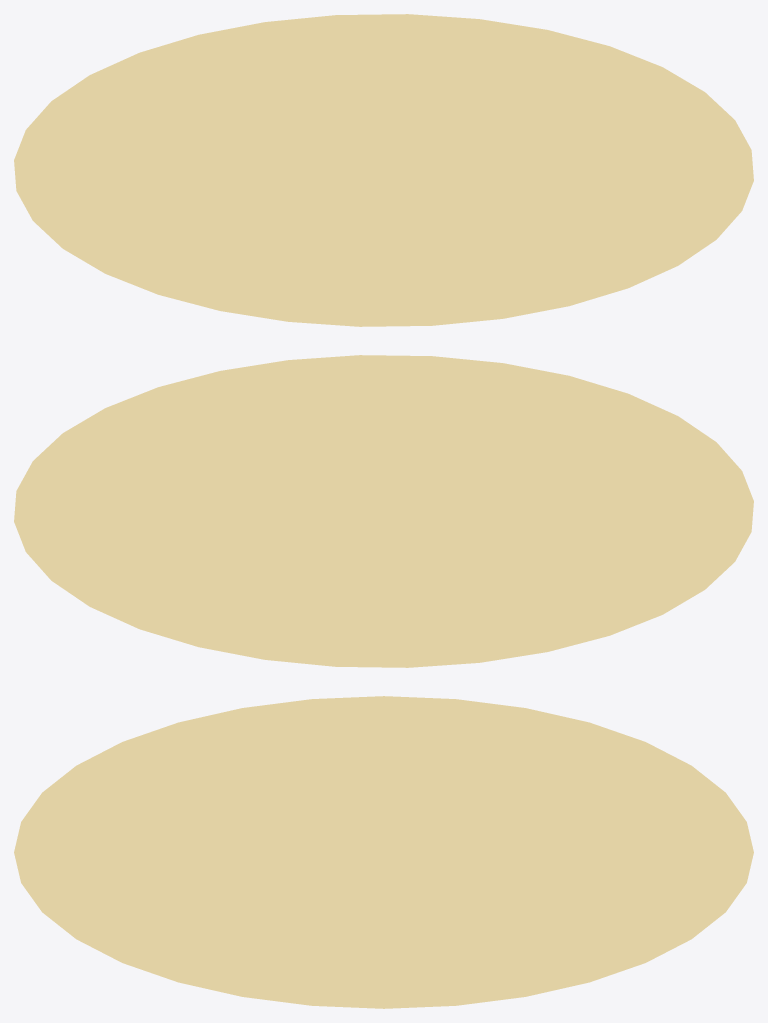
Rendered from lirio.fbx.
3 views of the same model, one above another, from view 1: azimuth 30°, elevation 25°; view 2: azimuth 150°, elevation 25°; view 3: azimuth 270°, elevation 25° (orthographic).
Visible parts, largest first — view 1: Circle; view 2: Circle; view 3: Circle.
Boxes of the visible parts, left/top/right/bottom form: Circle: left=14, top=14, right=753, bottom=326; Circle: left=14, top=355, right=753, bottom=667; Circle: left=14, top=696, right=753, bottom=1008.
Size of the model in its own units: 0.3913 by 2.95e-08 by 0.3913.
Materials: 1 (1 with a texture image).
